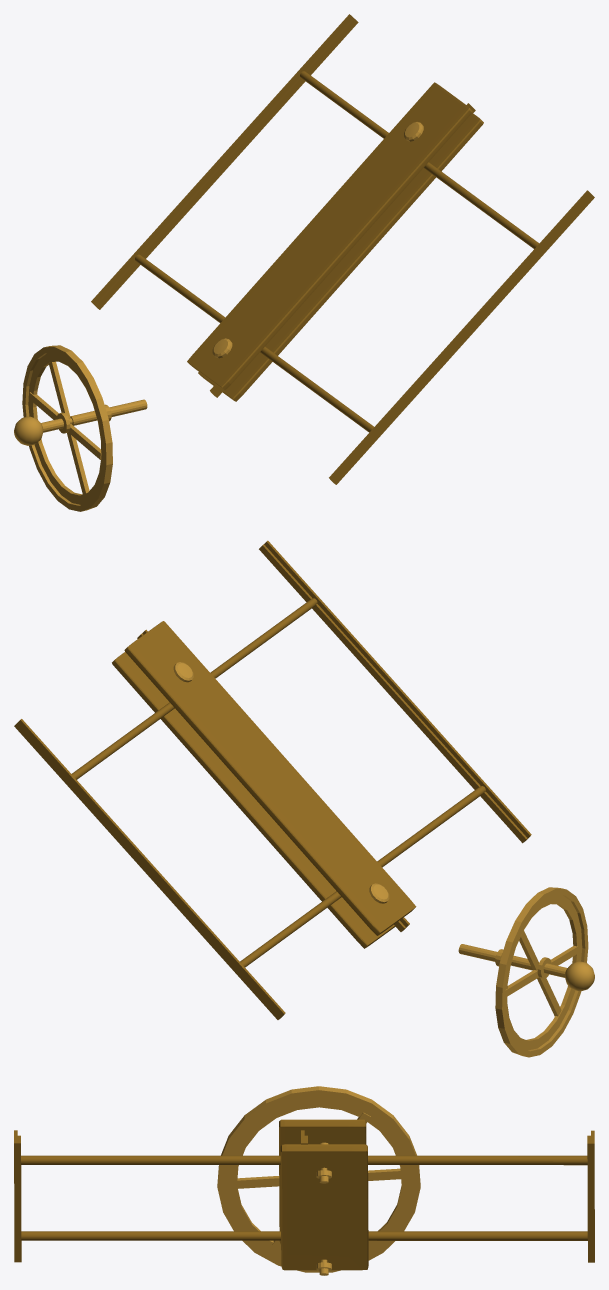
Rendered from pingyi3.fbx.
3 views of the same model, one above another, from view 1: azimuth 30°, elevation 25°; view 2: azimuth 150°, elevation 25°; view 3: azimuth 270°, elevation 25° (orthographic). The views are drawn at different scales.
Parts seen in each view (by area): view 1: 柱体.002, 立方体.068, 柱体.001; view 2: 柱体.002, 立方体.068, 柱体.001; view 3: 柱体.002, 立方体.068, 柱体.001.
Boxes of the visible parts, left/top/right/bottom form: 柱体.002: left=187, top=82, right=483, bottom=401; 立方体.068: left=91, top=14, right=594, bottom=484; 柱体.001: left=14, top=345, right=147, bottom=511; 柱体.002: left=112, top=621, right=416, bottom=948; 立方体.068: left=14, top=540, right=531, bottom=1019; 柱体.001: left=458, top=887, right=594, bottom=1057; 柱体.002: left=279, top=1119, right=368, bottom=1275; 立方体.068: left=14, top=1130, right=594, bottom=1262; 柱体.001: left=217, top=1086, right=420, bottom=1272.
Bounding box in the file's own units: 263 × 174 × 242.
